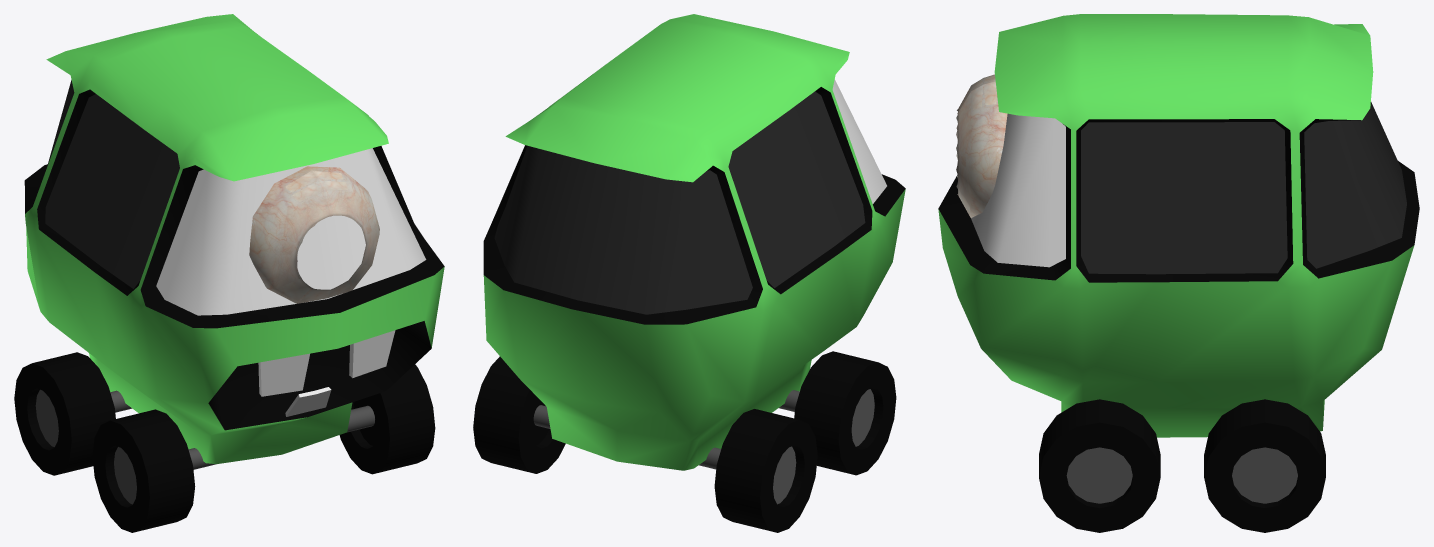
File: BOUNCER.fbx
3 views of the same model, side by side, from view 1: azimuth 30°, elevation 25°; view 2: azimuth 150°, elevation 25°; view 3: azimuth 270°, elevation 25° (orthographic). The views are drawn at different scales.
Parts seen in each view (by area): view 1: BOUNCER, Cylinder.002, Cylinder.007; view 2: BOUNCER, Cylinder.007, Cylinder.002; view 3: BOUNCER, Cylinder.007, Cylinder.002.
Part boxes in pixels (left/top/right/bottom): BOUNCER: left=24, top=14, right=444, bottom=464; Cylinder.002: left=92, top=364, right=435, bottom=532; Cylinder.007: left=14, top=352, right=131, bottom=475; BOUNCER: left=483, top=14, right=905, bottom=470; Cylinder.007: left=473, top=356, right=817, bottom=532; Cylinder.002: left=779, top=351, right=896, bottom=475; BOUNCER: left=938, top=14, right=1419, bottom=437; Cylinder.007: left=1204, top=399, right=1325, bottom=532; Cylinder.002: left=1039, top=399, right=1160, bottom=532.
Size of the model in its own units: 192 by 252 by 267.
7 materials, 1 textured.
